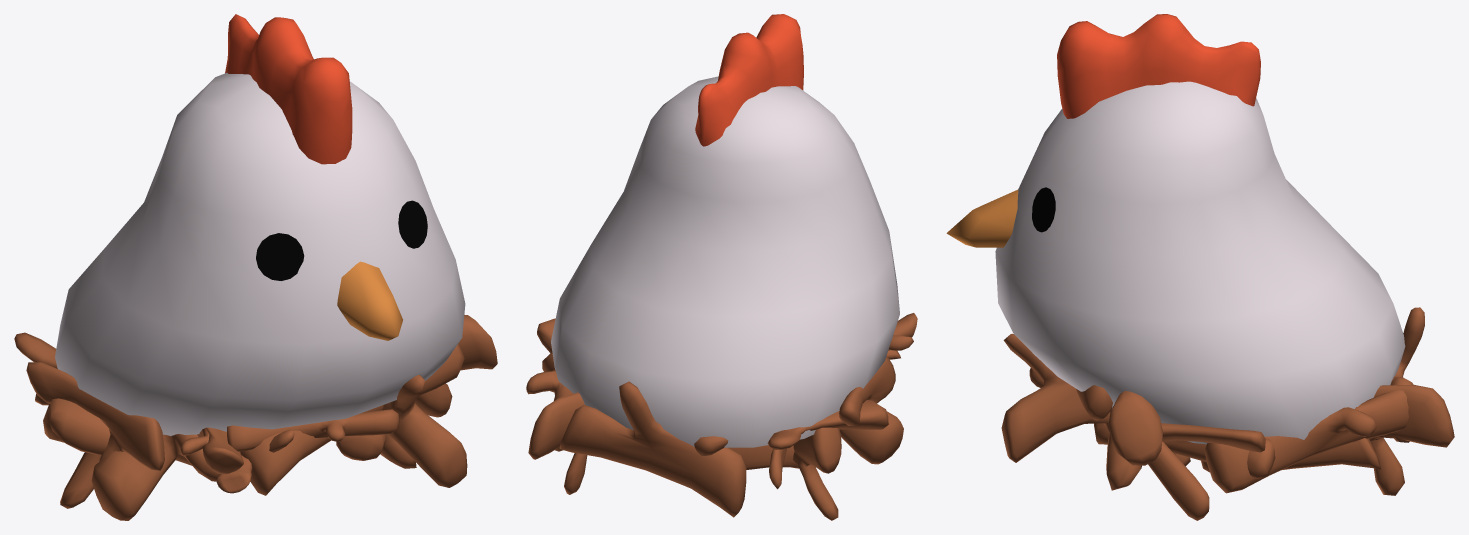
The model's file is ChickenHat (4).fbx.
3 views of the same model, side by side, from view 1: azimuth 30°, elevation 25°; view 2: azimuth 150°, elevation 25°; view 3: azimuth 270°, elevation 25° (orthographic). The views are drawn at different scales.
Parts seen in each view (by area): view 1: Nest; view 2: Nest; view 3: Nest.
Boxes of the visible parts, x1,y1,x2,y2 form: Nest: (14,14,497,520); Nest: (526,14,917,520); Nest: (946,14,1454,520).
Size of the model in its own units: 28.85 by 34.23 by 34.22.
